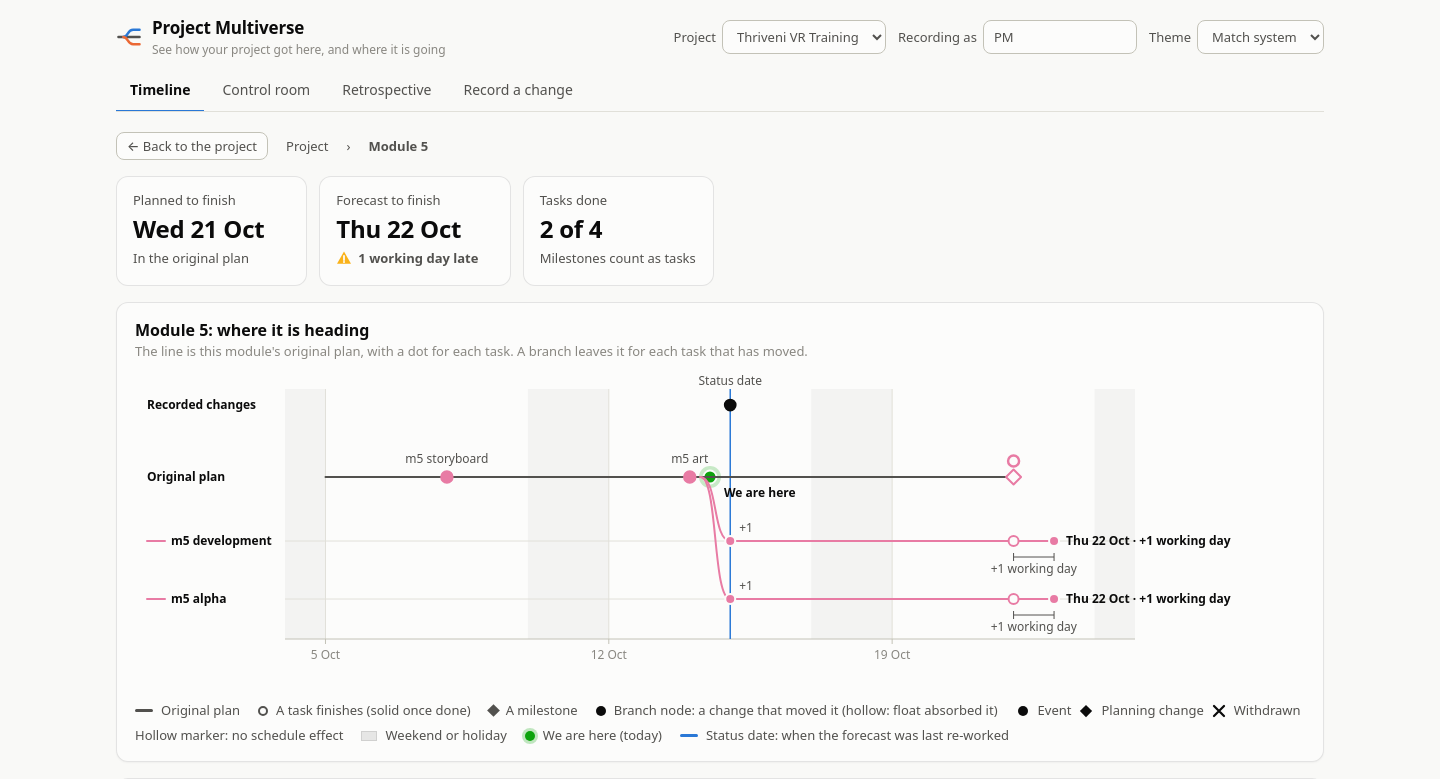
Test: the project view and a module’s own view › leaves the module when another tab is chosen, and the timeline tab is the project again
Expected: the heading "Module 5: where it is heading" is shown, [135,319,370,341]
What coordinates should you click on to do the following:
click the tab "Control room"
I would click on:
 (266, 91)
Its box is [208,70,324,112].
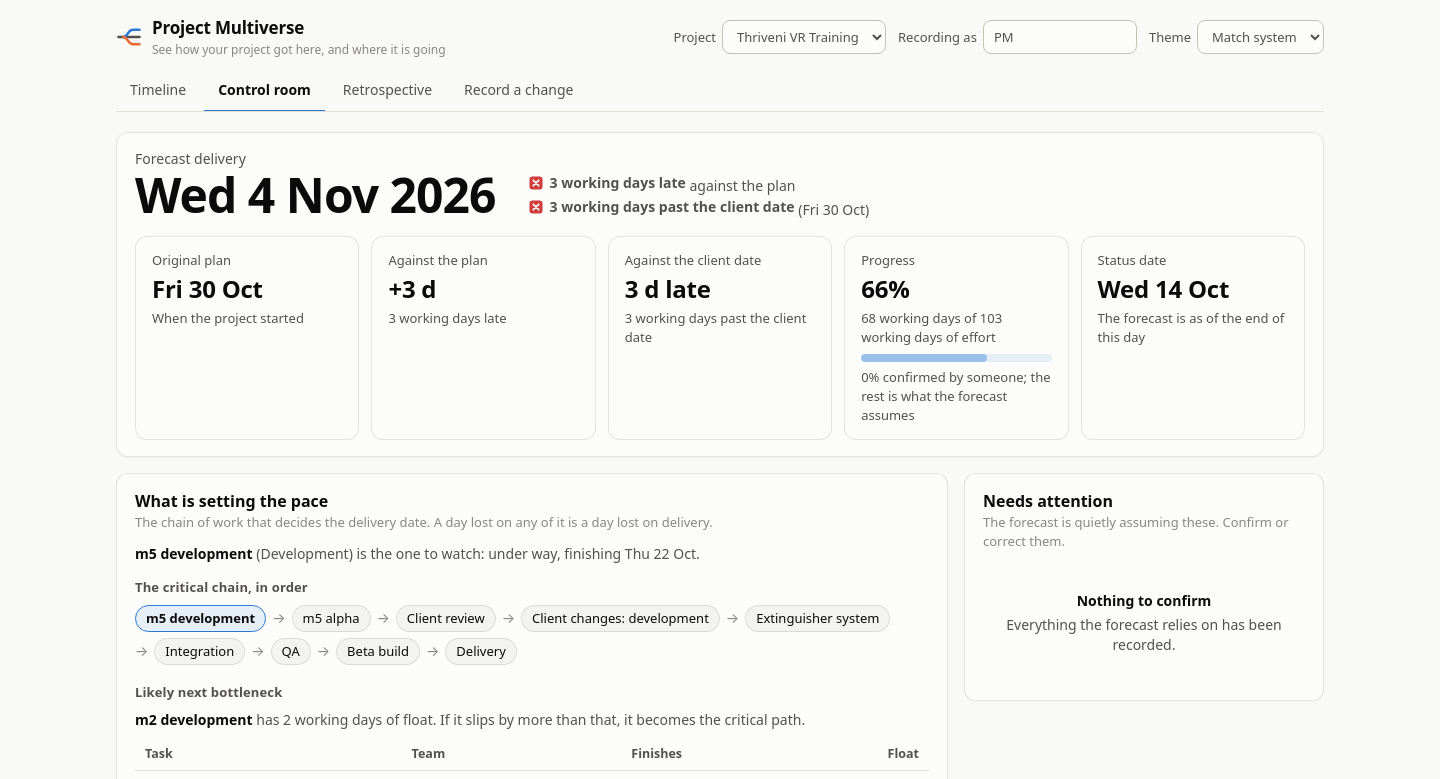
Expected: the heading "What is setting the pace" is shown, [135,490,328,512]
What coordinates should you click on to do the following:
click the tab "Timeline"
I would click on:
 (158, 91)
Its box is [116,70,200,112].
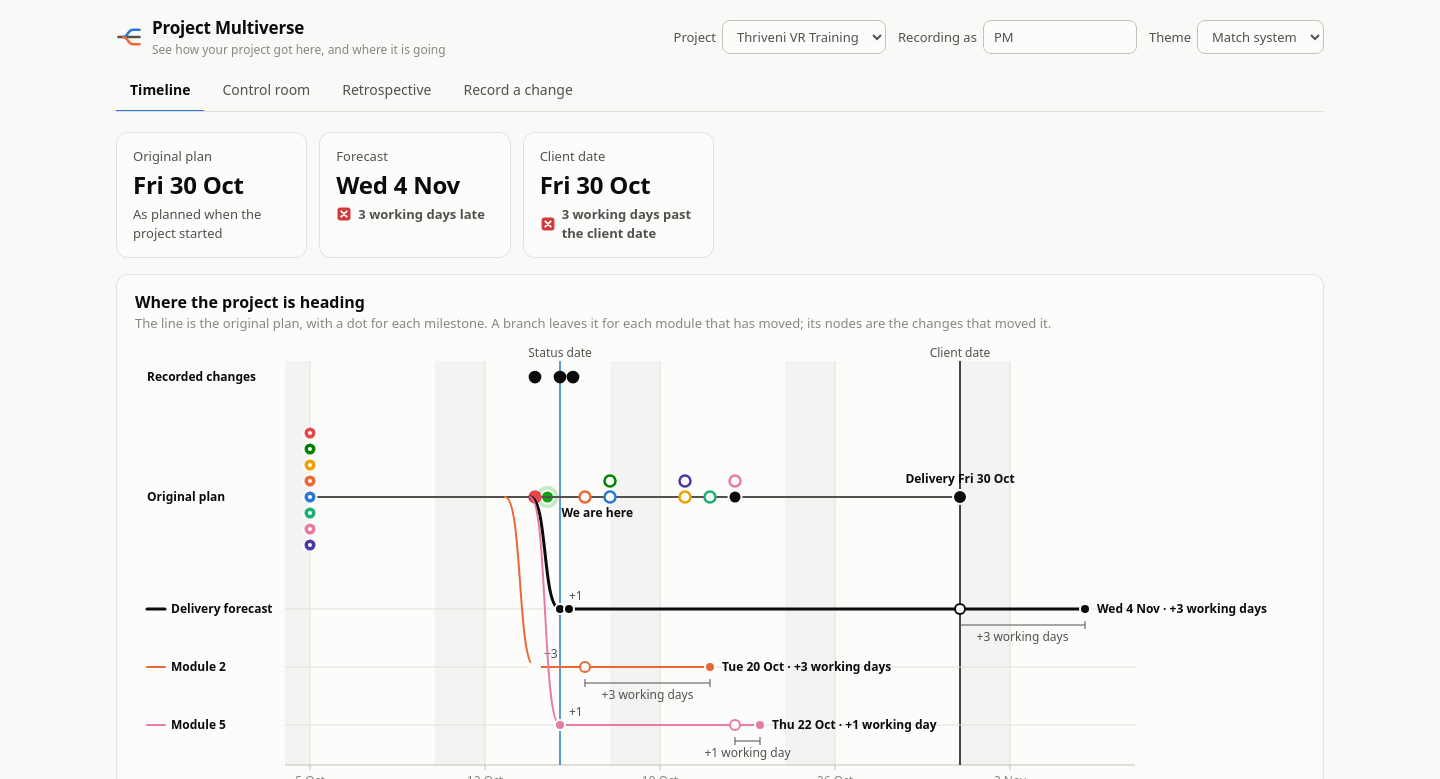
Expected: the heading "Where the project is heading" is shown, [135,291,365,313]
